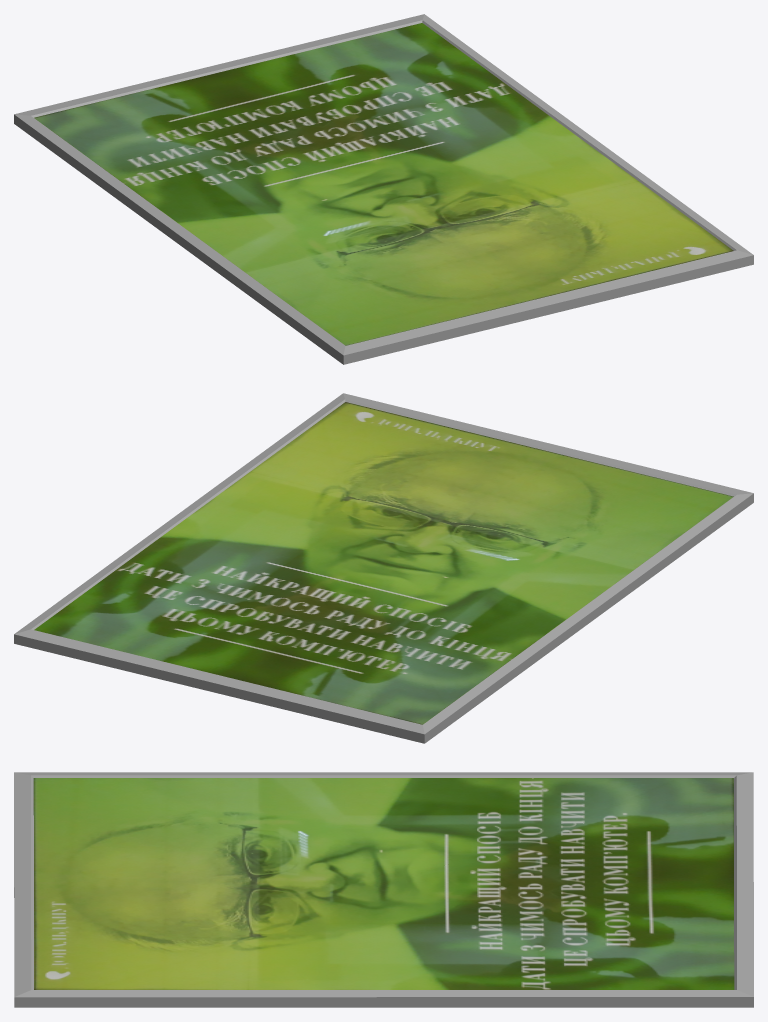
File: p12_donald_knuth.dae
3 views of the same model, one above another, from view 1: azimuth 30°, elevation 25°; view 2: azimuth 150°, elevation 25°; view 3: azimuth 270°, elevation 25° (orthographic). The views are drawn at different scales.
Parts seen in each view (by area): view 1: Circle_001, Circle; view 2: Circle_001, Circle; view 3: Circle_001, Circle.
Boxes of the visible parts, x1,y1,x2,y2 form: Circle_001: (34, 23, 733, 345); Circle: (14, 14, 753, 364); Circle_001: (34, 402, 733, 724); Circle: (14, 393, 753, 743); Circle_001: (33, 778, 734, 989); Circle: (14, 772, 753, 1007).
Size of the model in its own units: 0.4402 by 0.6119 by 0.0114.
Materials: 2 (1 with a texture image).
